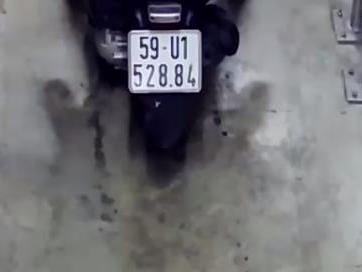num_plate: (126, 28, 203, 94)
